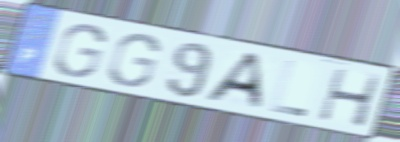9: (162, 40, 214, 100)
A: (200, 50, 266, 112)
G: (105, 32, 162, 89), (51, 23, 108, 79)
H: (315, 65, 385, 130)
L: (268, 58, 310, 119)
